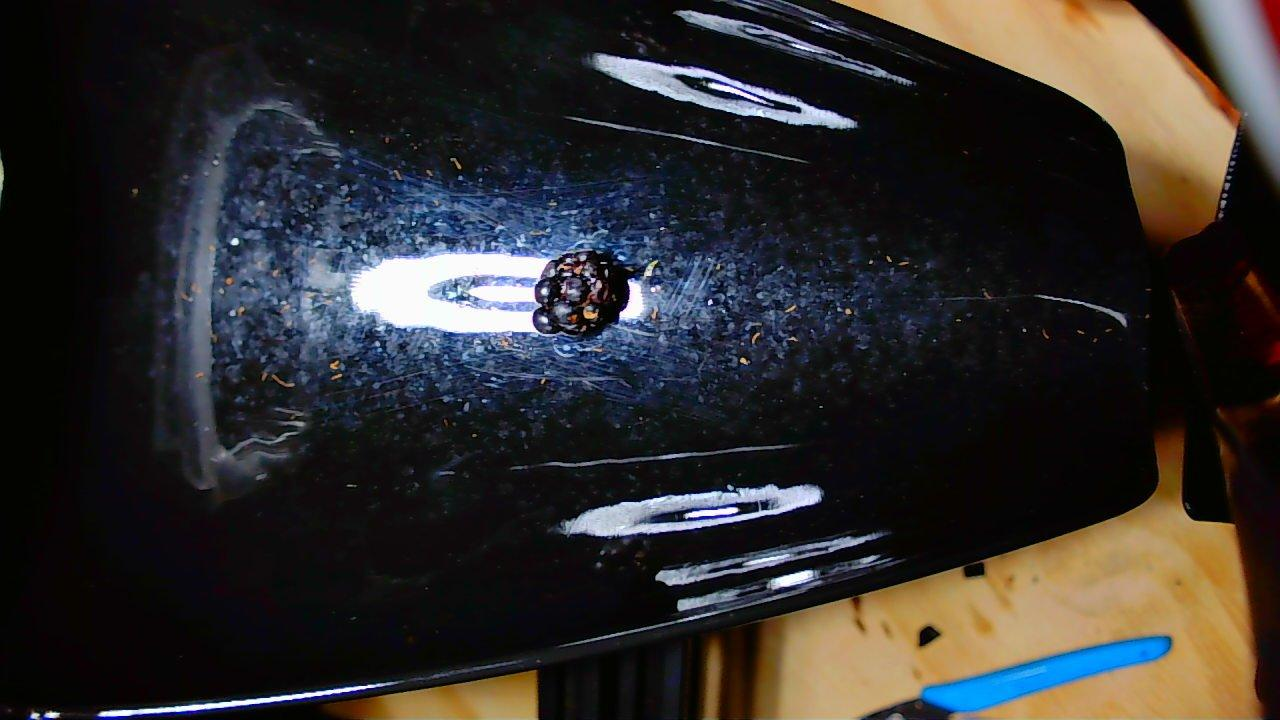berry: (533, 250, 627, 334)
